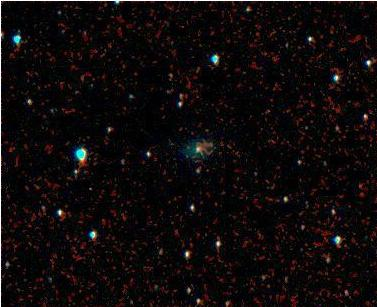star: (196, 130, 226, 160)
